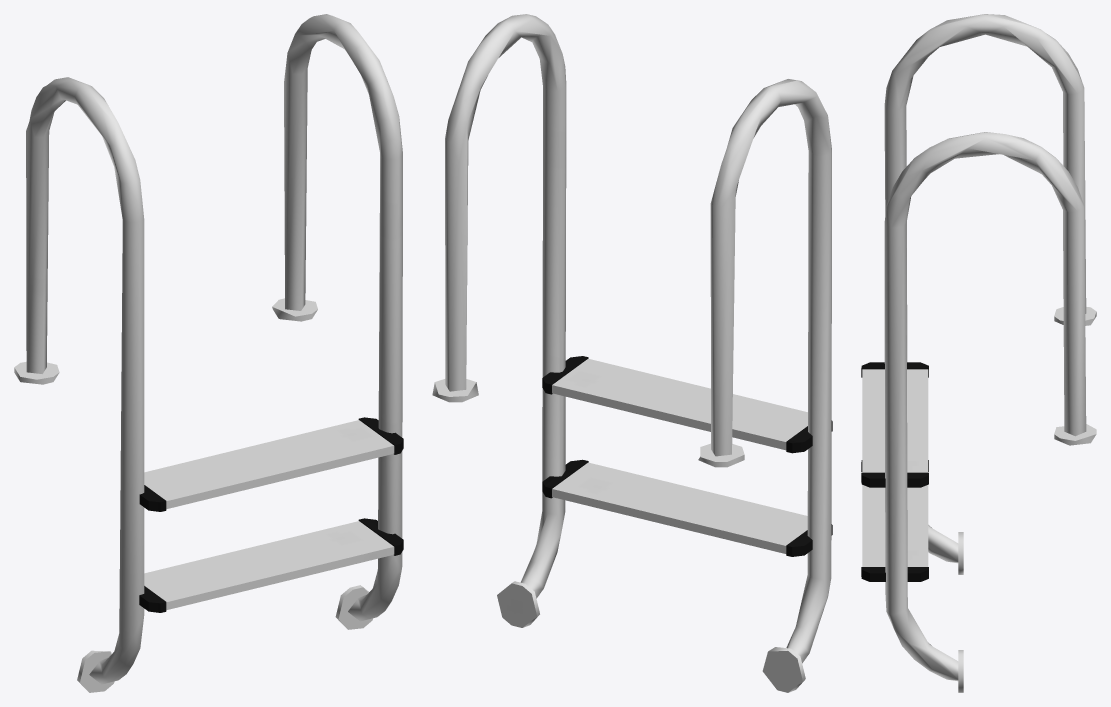
Rendered from pool-ladder.lod0.glb.
3 renders of one model, left to right at view 1: azimuth 30°, elevation 25°; view 2: azimuth 150°, elevation 25°; view 3: azimuth 270°, elevation 25°, orthographic. The views are drawn at different scales.
Parts seen in each view (by area): view 1: PoolLadder3_Material #27_0; view 2: PoolLadder3_Material #27_0; view 3: PoolLadder3_Material #27_0.
Boxes of the visible parts, <box> form: PoolLadder3_Material #27_0: <box>14,14,403,692</box>; PoolLadder3_Material #27_0: <box>432,14,832,692</box>; PoolLadder3_Material #27_0: <box>861,14,1096,692</box>.
Size of the model in its own units: 0.6269 by 1.2 by 0.4574.
1 material, 1 textured.
